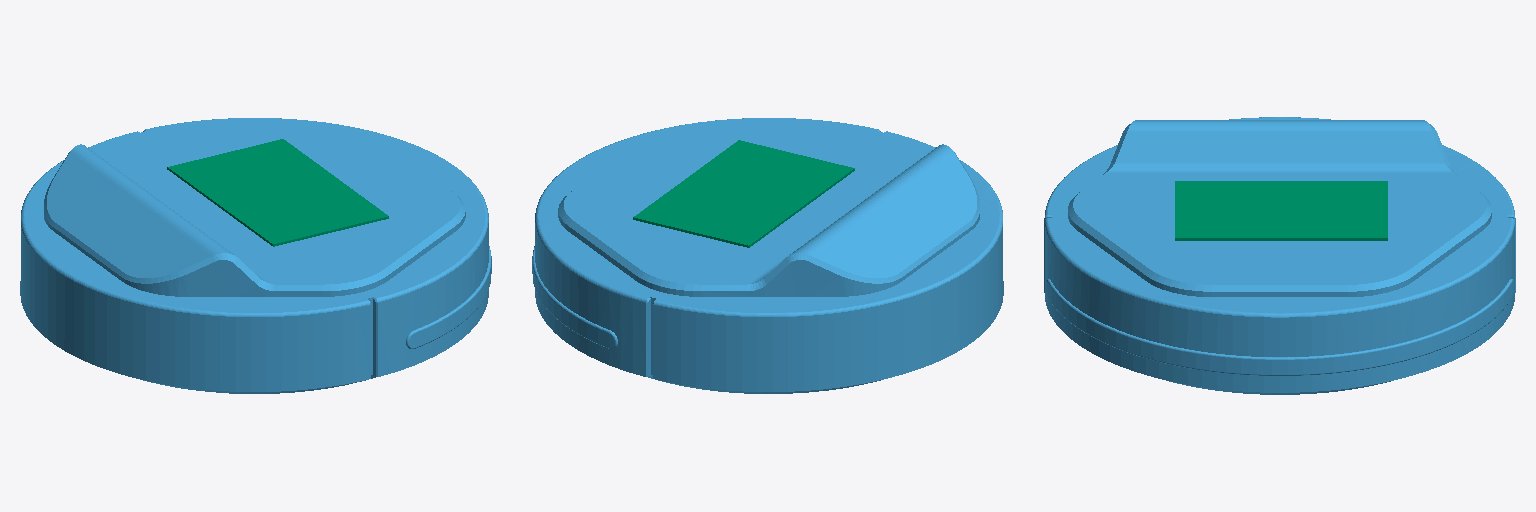
URDF robot description (kobuki):
<?xml version="1.0" ?>
<robot name="kobuki" xmlns:xacro="http://ros.org/wiki/xacro">
  <link name="base_footprint"/>
  <joint name="base_joint" type="fixed">
    <origin xyz="0 0 0.0102" rpy="0 0 0" />
    <parent link="base_footprint"/>
    <child link="base_link" />
  </joint>
  <link name="base_link">
    <visual>
      <geometry>
        <mesh filename="package://micro-ros_kobuki_demo_robot-description/meshes/main_body.dae" />
      </geometry>
      <origin xyz="0.001 0 0.05199" rpy="0 0 0"/>
    </visual>
    <collision name="base">
      <geometry>
        <cylinder length="0.10938" radius="0.178"/>
      </geometry>
      <origin xyz="0.0 0 0.05949" rpy="0 0 0"/>
    </collision>
    <inertial>
      <origin xyz="0.01 0 0"/>
      <mass value="2.4"/>
      <inertia ixx="0.019995" ixy="0.0" ixz="0.0"
                iyy="0.019995" iyz="0.0"
                izz="0.03675" />
    </inertial>
  </link>

  <joint name="olimex_board_joint" type="fixed">
   <origin xyz="-0.03 0.071 0.09" rpy="0 0 0" />
    <parent link="base_link"/>
    <child link="olimex_board" />
  </joint>
  <link name="olimex_board">
   <visual>
      <geometry>
        <mesh filename="package://micro-ros_kobuki_demo_robot-description/meshes/olimex_board.dae" scale="0.5 0.5 0.5" />
      </geometry>
      <origin xyz="0 0 0" rpy="0 0 1.5708"/>
   </visual>
  </link>

  <joint name="wheel_left_joint" type="fixed">
    <parent link="base_link"/>
    <child link="wheel_left_link"/>
    <origin xyz="0.00 0.115 0.0250" rpy="-1.5708 0 0"/>
  </joint>
  <link name="wheel_left_link">
    <visual>
      <geometry>
        <mesh filename="package://micro-ros_kobuki_demo_robot-description/meshes/wheel.dae"/>
      </geometry>
      <origin xyz="0 0 0" rpy="0 0 0"/>
    </visual>
    <collision>
      <geometry>
        <cylinder length="0.0206" radius="0.0352"/>
      </geometry>
      <origin rpy="0 0 0" xyz="0 0 0"/>
    </collision>
    <inertial>
      <mass value="0.01" />
      <origin xyz="0 0 0" />
      <inertia ixx="0.001" ixy="0.0" ixz="0.0"
                iyy="0.001" iyz="0.0"
                izz="0.001" />
    </inertial>
  </link>

  <joint name="wheel_right_joint" type="fixed">
    <parent link="base_link"/>
    <child link="wheel_right_link"/>
    <origin xyz="0.00 -0.115 0.0250" rpy="-1.5708 0 0"/>
  </joint>
  <link name="wheel_right_link">
    <visual>
      <geometry>
        <mesh filename="package://micro-ros_kobuki_demo_robot-description/meshes/wheel.dae"/>
      </geometry>
      <origin xyz="0 0 0" rpy="0 0 0"/>
    </visual>
    <collision>
      <geometry>
        <cylinder length="0.0206" radius="0.0350"/>
      </geometry>
      <origin rpy="0 0 0" xyz="0 0 0"/>
    </collision>
    <inertial>
      <mass value="0.01" />
      <origin xyz="0 0 0" />
      <inertia ixx="0.001" ixy="0.0" ixz="0.0"
                iyy="0.001" iyz="0.0"
                izz="0.001" />
    </inertial>
  </link>

  <joint name="caster_front_joint" type="fixed">
    <parent link="base_link"/>
    <child link="caster_front_link"/>
    <origin xyz="0.115 0.0 0.007" rpy="-1.5708 0 0"/>
  </joint>
  <link name="caster_front_link">
    <collision>
      <geometry>
        <cylinder length="0.0176" radius="0.017"/>
      </geometry>
      <origin rpy="0 0 0" xyz="0 0 0"/>
    </collision>
    <inertial>
      <mass value="0.01" />
      <origin xyz="0 0 0" />
      <inertia ixx="0.001" ixy="0.0" ixz="0.0"
                iyy="0.001" iyz="0.0"
                izz="0.001" />
    </inertial>
  </link>

  <joint name="caster_back_joint" type="fixed">
    <parent link="base_link"/>
    <child link="caster_back_link"/>
    <origin xyz="-0.135 0.0 0.009" rpy="-1.5708 0 0"/>
  </joint>
  <link name="caster_back_link">
    <collision>
      <geometry>
        <cylinder length="0.0176" radius="0.017"/>
      </geometry>
      <origin rpy="0 0 0" xyz="0 0 0"/>
    </collision>
    <inertial>
      <mass value="0.01" />
      <origin xyz="0 0 0" />
      <inertia ixx="0.001" ixy="0.0" ixz="0.0"
                iyy="0.001" iyz="0.0"
                izz="0.001" />
    </inertial>
  </link>

  <!-- Kobuki's sensors -->
  <joint name="gyro_joint" type="fixed">
    <axis xyz="0 1 0"/>
    <origin xyz="0.056 0.062 0.0202" rpy="0 0 0"/>
    <parent link="base_link"/>
    <child link="gyro_link"/>
  </joint>
  <link name="gyro_link">
    <inertial>
      <mass value="0.001"/>
      <origin xyz="0 0 0" rpy="0 0 0"/>
      <inertia ixx="0.0001" ixy="0" ixz="0"
                iyy="0.000001" iyz="0"
                izz="0.0001"/>
    </inertial>
  </link>

  <joint name="cliff_sensor_left_joint" type="fixed">
    <origin xyz="0.08734 0.13601 0.0214" rpy="0 1.5708 0" />
    <parent link="base_link"/>
    <child link="cliff_sensor_left_link" />
  </joint>
  <link name="cliff_sensor_left_link">
    <inertial>
      <mass value="0.0001" />
      <origin xyz="0 0 0" />
      <inertia ixx="0.0001" ixy="0.0" ixz="0.0"
                iyy="0.0001" iyz="0.0"
                izz="0.0001" />
    </inertial>
  </link>

  <joint name="cliff_sensor_right_joint" type="fixed">
    <origin xyz="0.085 -0.13601 0.0214" rpy="0 1.5708 0" />
    <parent link="base_link"/>
    <child link="cliff_sensor_right_link" />
  </joint>
  <link name="cliff_sensor_right_link">
    <inertial>
      <mass value="0.0001" />
      <origin xyz="0 0 0" />
      <inertia ixx="0.0001" ixy="0.0" ixz="0.0"
                iyy="0.0001" iyz="0.0"
                izz="0.0001" />
    </inertial>
  </link>

  <joint name="cliff_sensor_front_joint" type="fixed">
    <origin xyz="0.156 0.00 0.0214" rpy="0 1.5708 0" />
    <parent link="base_link"/>
    <child link="cliff_sensor_front_link" />
  </joint>
  <link name="cliff_sensor_front_link">
    <inertial>
      <mass value="0.0001" />
      <origin xyz="0 0 0" />
      <inertia ixx="0.0001" ixy="0.0" ixz="0.0"
                iyy="0.0001" iyz="0.0"
                izz="0.0001" />
    </inertial>
  </link>

</robot>

--- What the picture shows (computed from the rendered views, not written in the file) ---
The picture shows the robot from 3 angles, left to right: view 1: azimuth 30°, elevation 25°; view 2: azimuth 150°, elevation 25°; view 3: azimuth 270°, elevation 25°; orthographic projection.
Model kobuki with 11 links and 10 joints (10 fixed), rooted at base_footprint, posed every joint at zero.
Visible links, largest first — view 1: base_link, olimex_board; view 2: base_link, olimex_board; view 3: base_link, olimex_board.
Boxes of the visible links, left/top/right/bottom form: base_link: left=20, top=118, right=491, bottom=393; olimex_board: left=167, top=139, right=388, bottom=246; base_link: left=532, top=118, right=1003, bottom=393; olimex_board: left=633, top=140, right=854, bottom=247; base_link: left=1044, top=117, right=1515, bottom=394; olimex_board: left=1175, top=181, right=1387, bottom=240.
Size in the robot's own frame: 0.3518 by 0.35 by 0.1243 metres.
4 mesh visuals loaded from 3 distinct referenced files (3 Collada DAE).